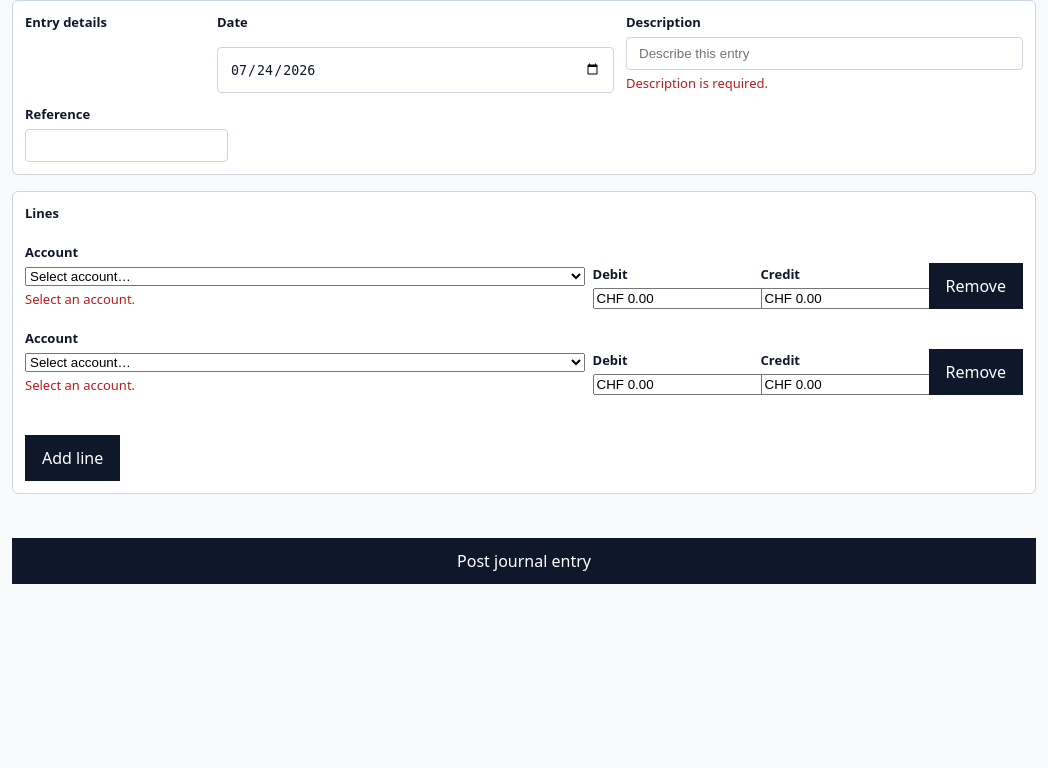
Test: JournalEntryForm › adds and removes a line while preserving the two-line minimum
Click the button "Add line".
click(73, 458)  # box [25,435,120,481]
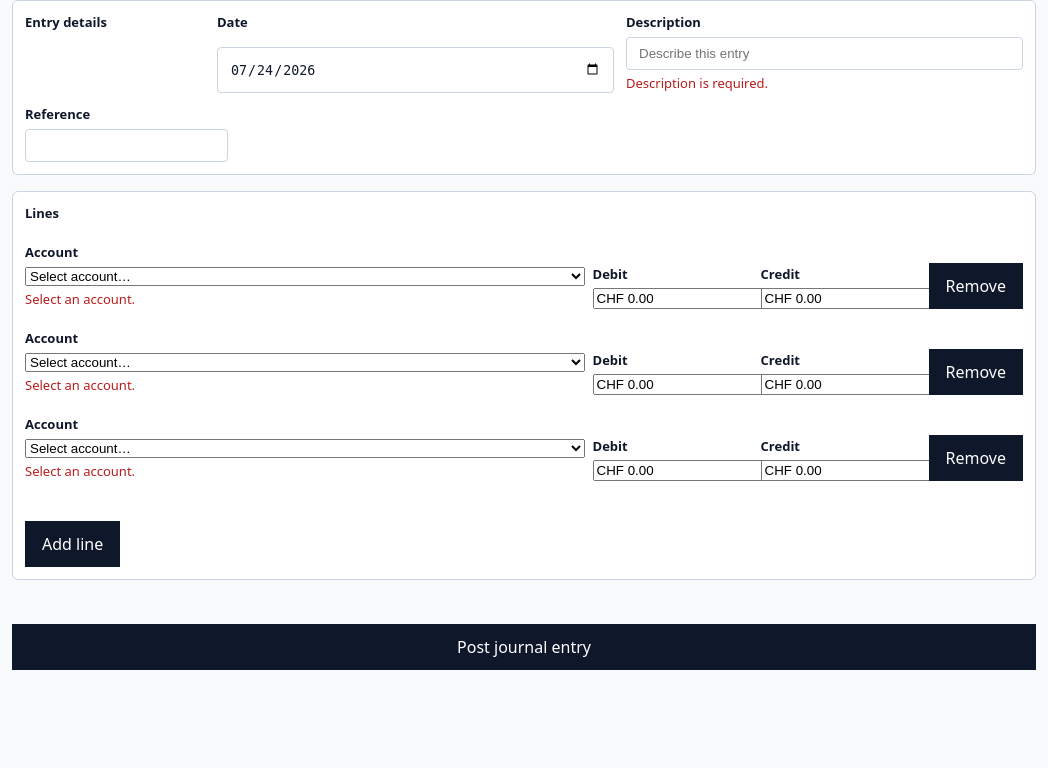
Result: the number of dropdowns is 3 at [25,266,584,286]; [25,352,584,372]; [25,438,584,458]
Click the button with aria-label "Remove line".
click(976, 458)  # box [928,435,1023,481]
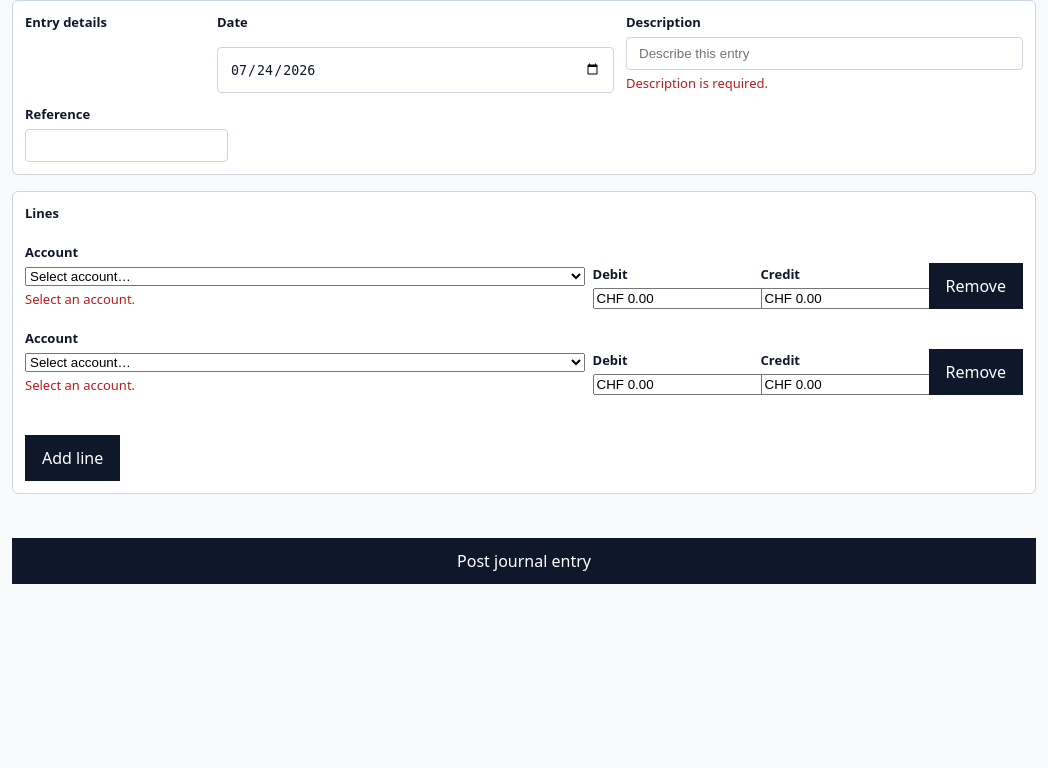
Expected: the button with aria-label "Remove line" is disabled, [928,263,1023,309]
Result: the number of dropdowns is 2 at [25,266,584,286]; [25,352,584,372]
